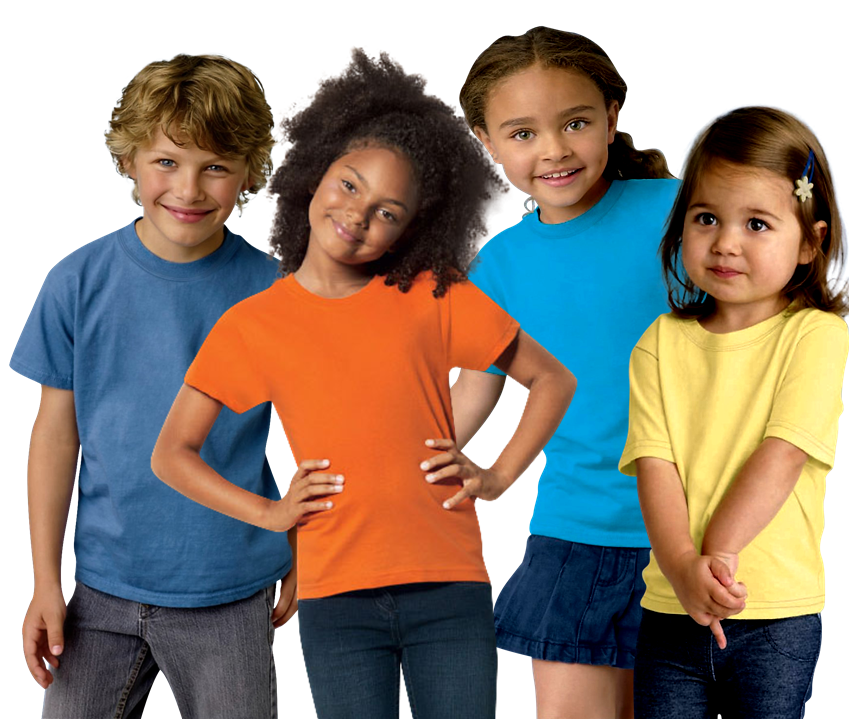human: (146, 57, 582, 719), (10, 41, 314, 719), (449, 19, 737, 719), (620, 96, 849, 719)
